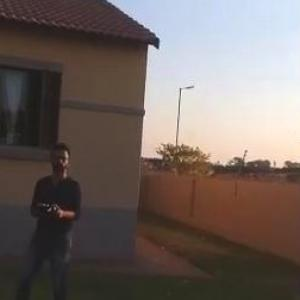follow: (0, 134, 86, 299)
